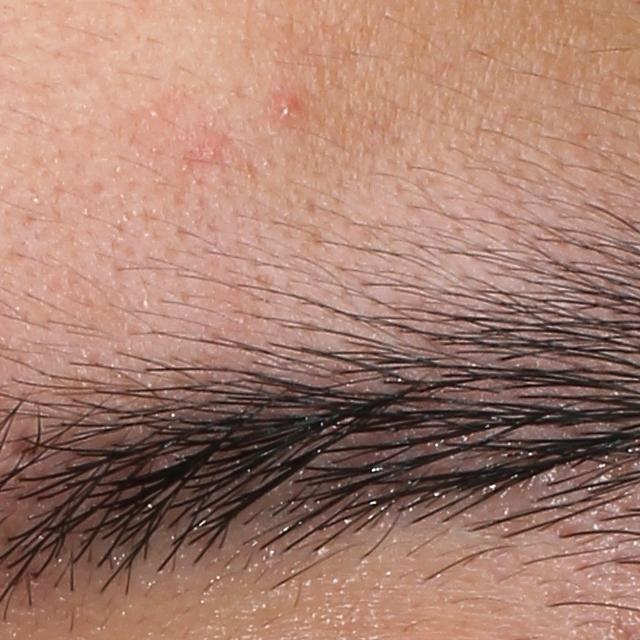comedo: (146, 107, 163, 121)
papule: (278, 97, 302, 123)
